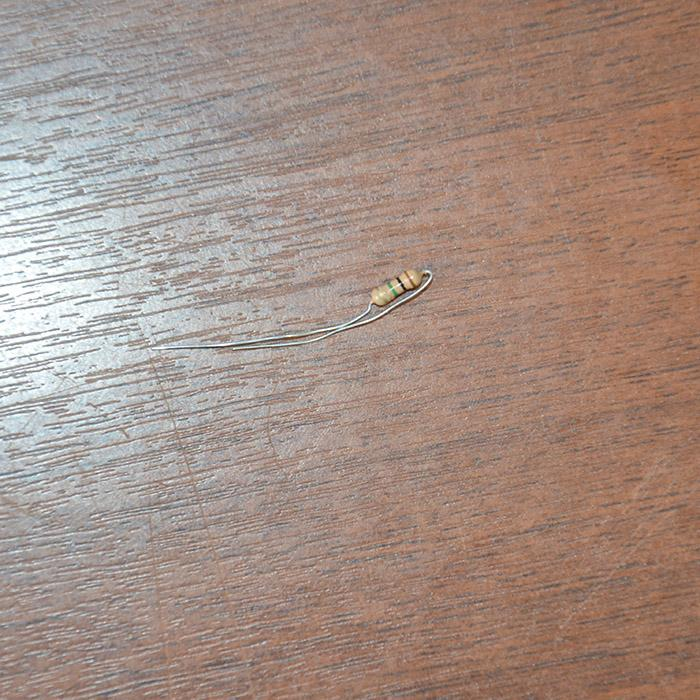resistor: (370, 268, 422, 307)
